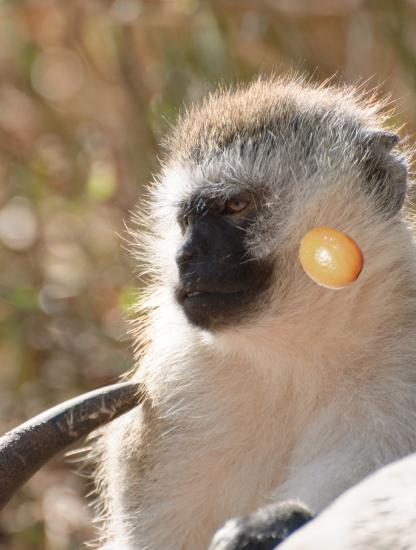Lemon: (295, 223, 365, 293)
